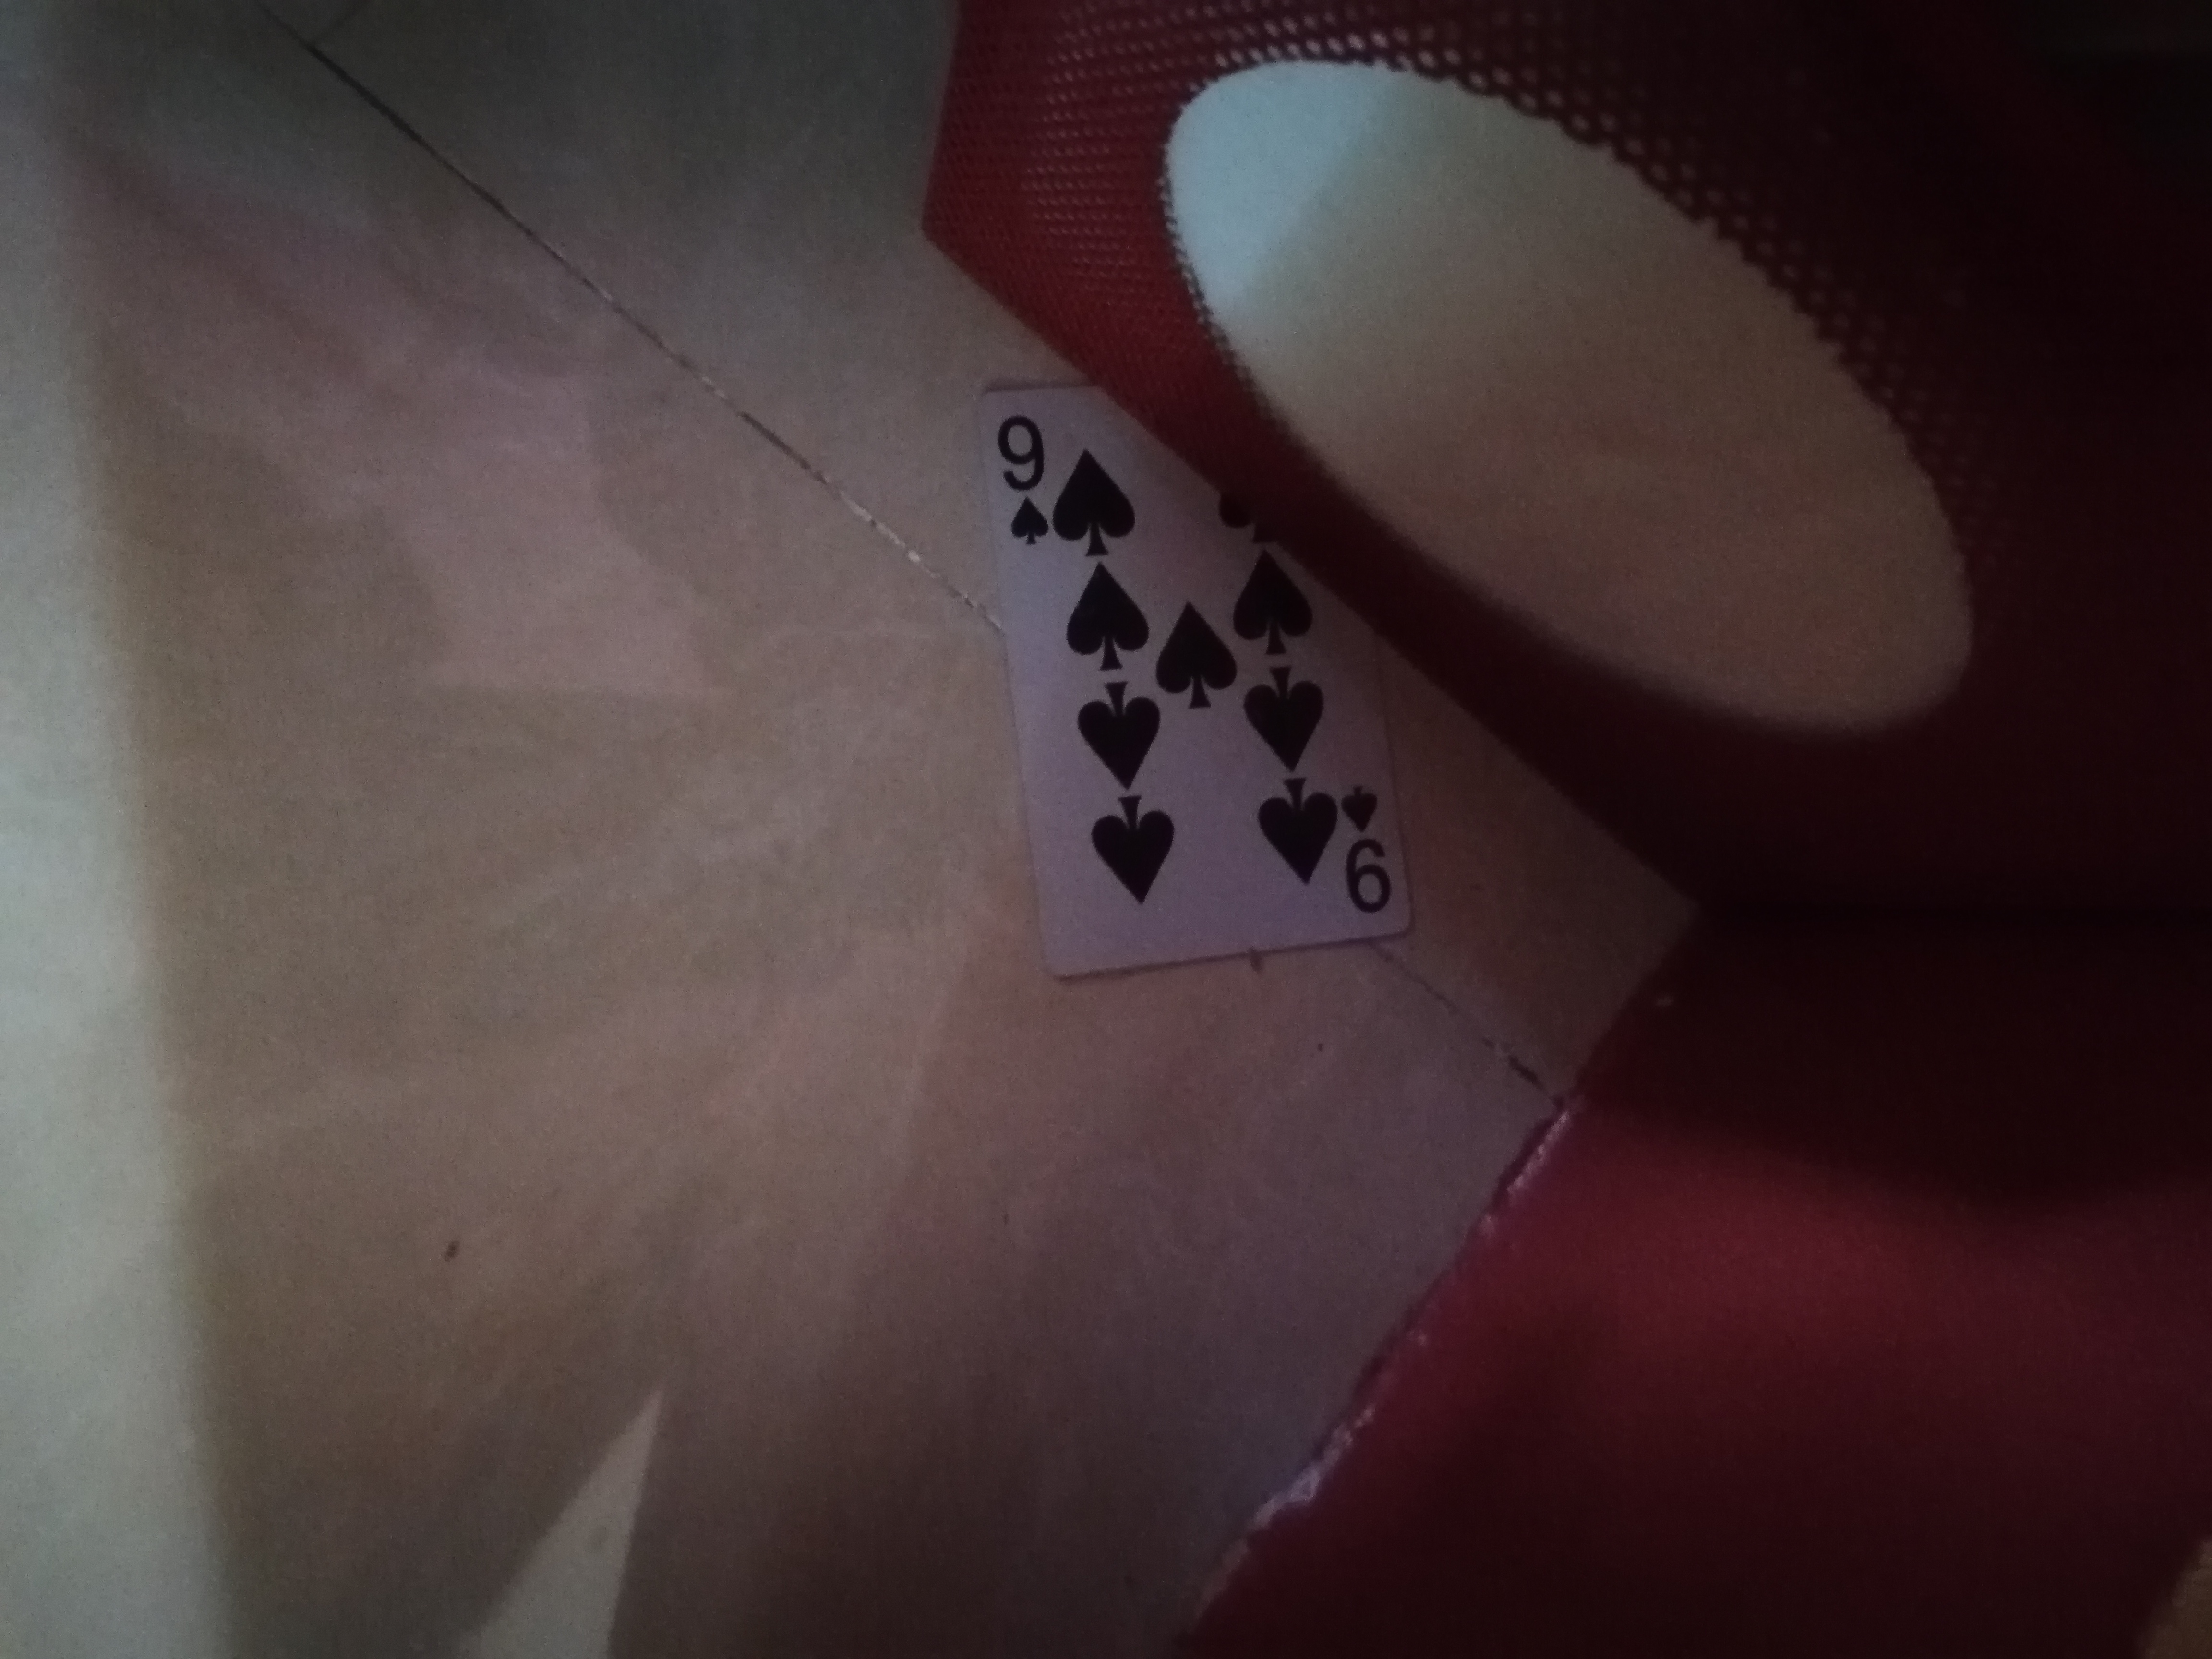nine: (951, 347, 1435, 993)
